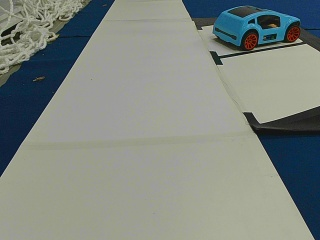car: (213, 7, 301, 50)
